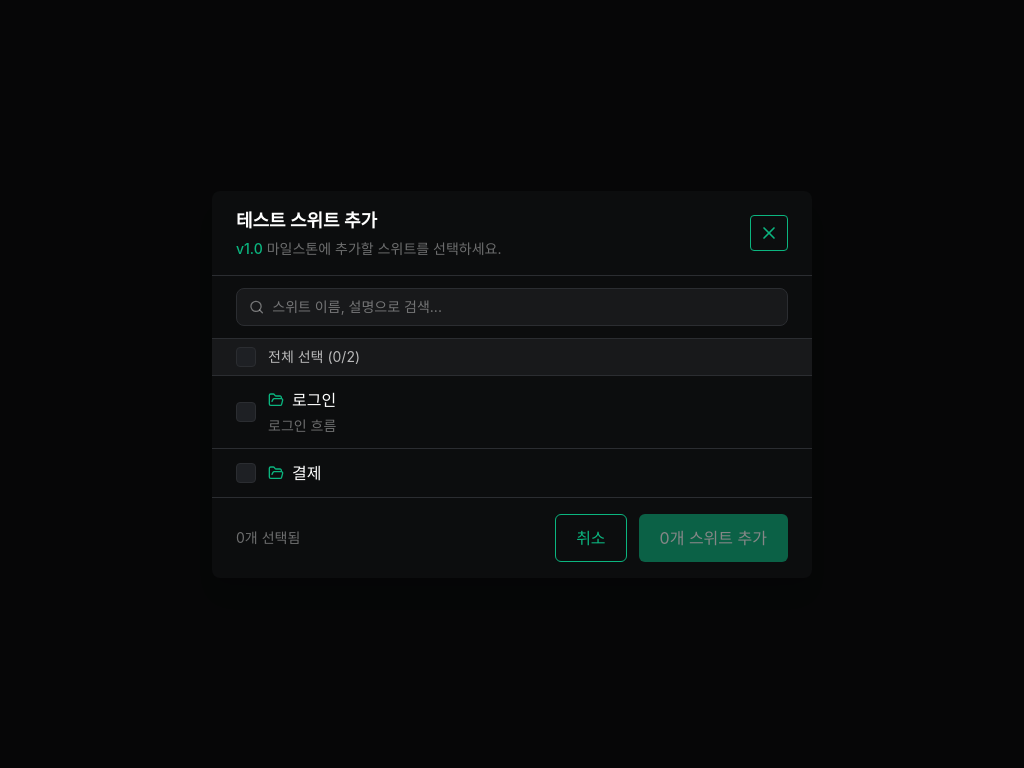
선택 모달 접근성 › 항목 체크박스는 항목 내용으로 이름이 붙고, 체크박스를 눌러도 한 번만 토글된다
This screenshot has width=1024, height=768.
Click the checkbox named "로그인" next to "로그인 흐름" at (246, 412), box x1=236 y1=402 x2=256 y2=422
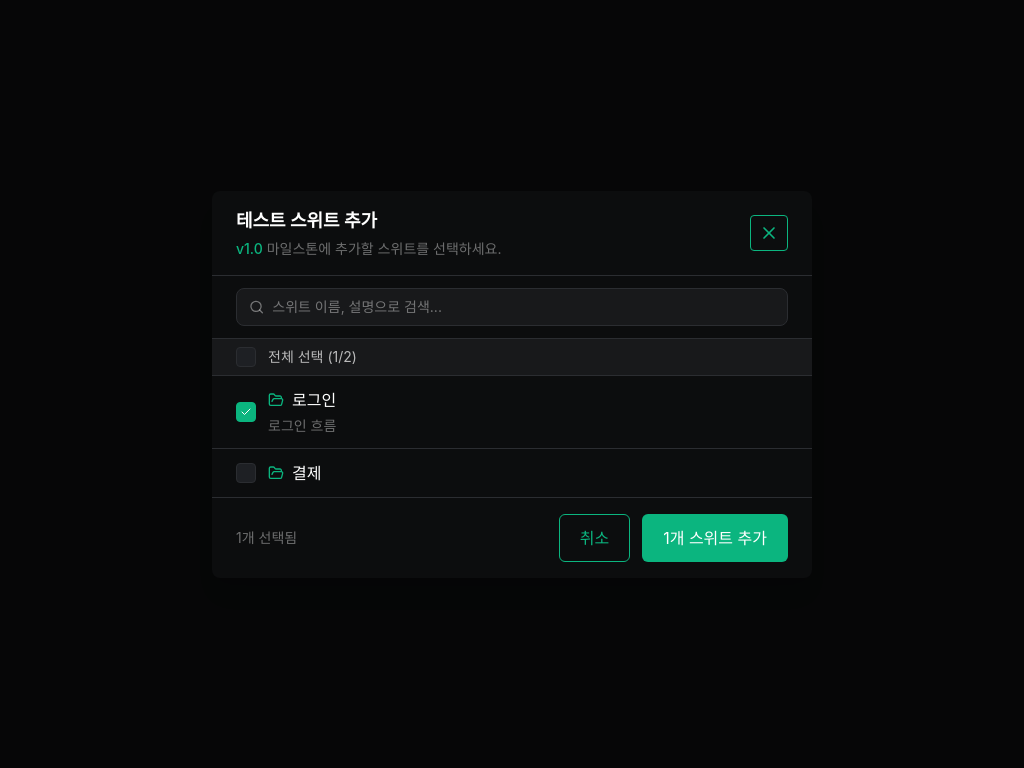
Now the text "1개 선택됨" is shown, box x1=236 y1=528 x2=297 y2=548
# 행 텍스트를 눌러도 한 번만 토글된다
Click the text "결제" at (307, 472), box x1=292 y1=460 x2=322 y2=484
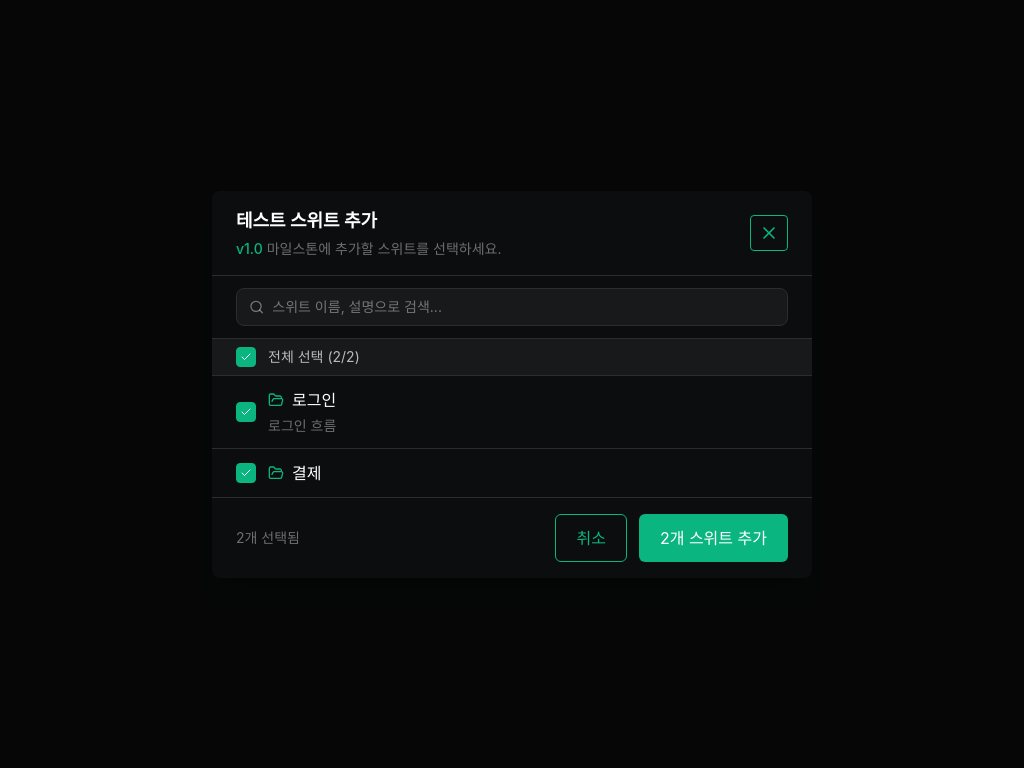
Now the text "2개 선택됨" is shown, box x1=236 y1=528 x2=300 y2=548
